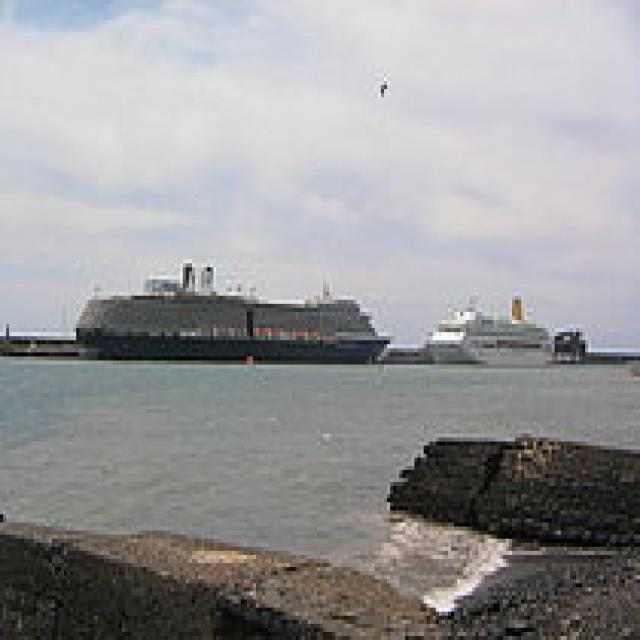boat: (74, 314, 395, 384), (427, 327, 574, 375)
